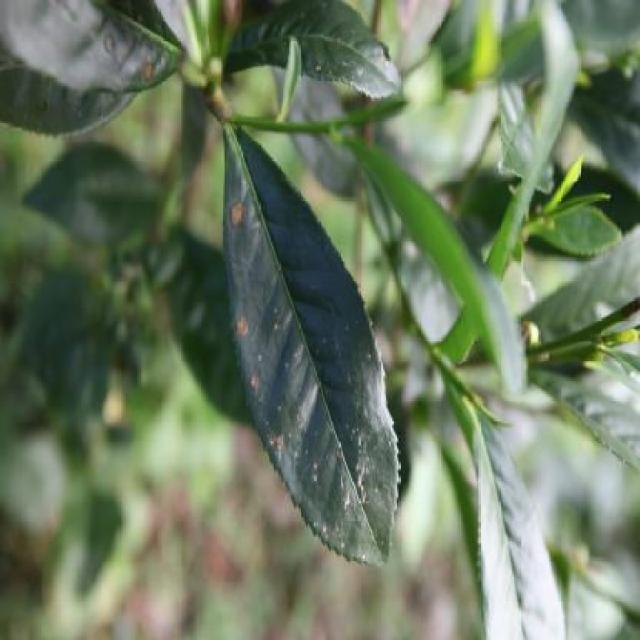Leaf rust of tea: (201, 123, 417, 583)
